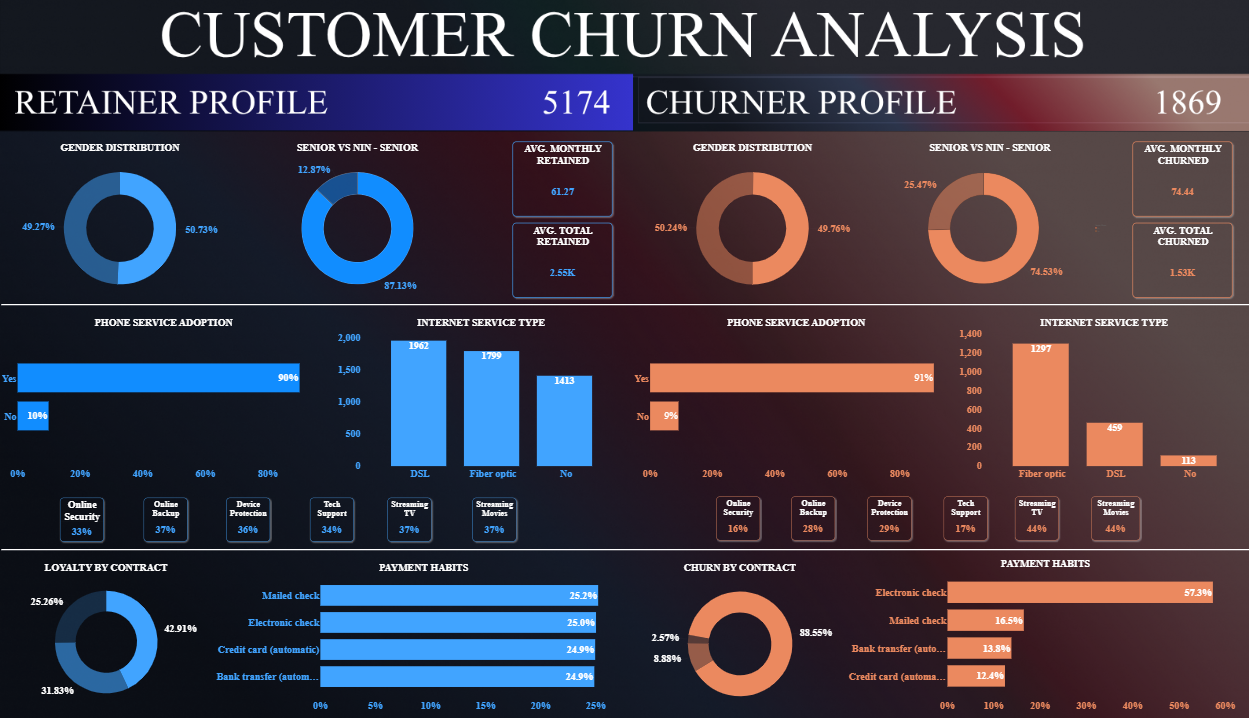

What the dashboard file says about the page in this screenshot:
{"tool":"powerbi","page":{"name":"RETAINER VS CHURNER ANALYSIS","canvas":[9999,5800],"ordinal":0},"visuals":[{"type":"card","title":"AVG. MONTHLY RETAINED","fields":{"Values":["Sheet1.Avg Monthly Retained"]},"box":[4100,1140,800,600],"z":0},{"type":"card","title":"AVG. TOTAL RETAINED","fields":{"Values":["Sheet1.Avg Total Retained"]},"box":[4100,1790,800,600],"z":1000},{"type":"card","title":"AVG. MONTHLY CHURNED","fields":{"Values":["Sheet1.Avg Monthly Churned"]},"box":[9060,1140,800,600],"z":2000},{"type":"card","title":"AVG. TOTAL CHURNED","fields":{"Values":["Sheet1.Avg Total Churned"]},"box":[9060,1790,800,600],"z":3000},{"type":"donutChart","title":"GENDER DISTRIBUTION ","fields":{"Y":["Count(Sheet1.CustomerID)"],"Category":["Sheet1.Gender"],"Series":["Sheet1.Churn Label"]},"box":[5070,1140,1900,1300],"z":4000},{"type":"donutChart","title":"CHURN BY CONTRACT","fields":{"Category":["Sheet1.Contract"],"Y":["Count(Sheet1.CustomerID)"],"Series":["Sheet1.Churn Label"]},"box":[5070,4500,1700,1230],"z":5000},{"type":"barChart","title":"PHONE SERVICE ADOPTION","fields":{"Category":["Sheet1.Phone Service"],"Y":["Divide(Count(Sheet1.CustomerID), ScopedEval(Count(Sheet1.CustomerID), []))"],"Series":["Sheet1.Churn Label"]},"box":[10,2540,2600,1300],"z":6000},{"type":"barChart","title":"PHONE SERVICE ADOPTION","fields":{"Category":["Sheet1.Phone Service"],"Y":["CountNonNull(Sheet1.CustomerID)"],"Series":["Sheet1.Churn Label"]},"box":[5070,2540,2600,1300],"z":7000},{"type":"columnChart","title":"INTERNET SERVICE TYPE","fields":{"Category":["Sheet1.Internet Service"],"Y":["Count(Sheet1.CustomerID)"]},"box":[2700,2540,2300,1300],"z":8000},{"type":"columnChart","title":"INTERNET SERVICE TYPE","fields":{"Category":["Sheet1.Internet Service"],"Y":["Count(Sheet1.CustomerID)"]},"box":[7670,2540,2330,1300],"z":9000},{"type":"barChart","title":"PAYMENT HABITS","fields":{"Category":["Sheet1.Payment Method"],"Y":["CountNonNull(Sheet1.CustomerID)"],"Series":["Sheet1.Churn Label"]},"box":[1710,4500,3360,1200],"z":10000},{"type":"barChart","title":"PAYMENT HABITS","fields":{"Category":["Sheet1.Payment Method"],"Y":["CountNonNull(Sheet1.CustomerID)"],"Series":["Sheet1.Churn Label"]},"box":[6770,4470,3190,1230],"z":11000},{"type":"card","title":"Online Backup","fields":{"Values":["Sheet1.Retained % Online Backup"]},"box":[1154,3992,350,350],"z":12000},{"type":"card","title":"Device Protection","fields":{"Values":["Sheet1.Retained % Device Protection"]},"box":[1814,3988,350,350],"z":13000},{"type":"card","title":"Tech Support","fields":{"Values":["Sheet1.Retained % Tech Support"]},"box":[2484,3988,350,350],"z":14000},{"type":"card","title":"Streaming TV","fields":{"Values":["Sheet1.Retained % Streaming TV"]},"box":[3104,3988,350,350],"z":15000},{"type":"card","title":"Streaming Movies","fields":{"Values":["Sheet1.Retained % Streaming Movies"]},"box":[3784,3988,350,350],"z":16000},{"type":"card","title":"Online Security","fields":{"Values":["Sheet1.Retained % Online Security"]},"box":[484,3988,350,350],"z":17000},{"type":"card","title":"Online Backup","fields":{"Values":["Sheet1.Churned % Online Backup"]},"box":[6326,3980,350,350],"z":18000},{"type":"card","title":"Device Protection","fields":{"Values":["Sheet1.Churned % Device Protection"]},"box":[6936,3980,350,350],"z":19000},{"type":"card","title":"Tech Support","fields":{"Values":["Sheet1.Churned % Tech Support"]},"box":[7546,3980,350,350],"z":20000},{"type":"card","title":"Streaming TV","fields":{"Values":["Sheet1.Churned % Streaming TV"]},"box":[8116,3980,350,350],"z":21000},{"type":"card","title":"Streaming Movies","fields":{"Values":["Sheet1.Churned % Streaming Movies"]},"box":[8726,3980,390,350],"z":22000},{"type":"card","title":"Online Security","fields":{"Values":["Sheet1.Churned % Online Security"]},"box":[5726,3980,350,350],"z":23000},{"type":"donutChart","title":"SENIOR VS NIN - SENIOR","fields":{"Series":["Sheet1.Senior Citizen"],"Y":["Count(Sheet1.CustomerID)"],"Category":["Sheet1.Senior Citizen","Sheet1.Churn Label"]},"box":[1910,1140,1900,1300],"z":24000},{"type":"donutChart","title":"SENIOR VS NIN - SENIOR","fields":{"Series":["Sheet1.Senior Citizen"],"Y":["Count(Sheet1.CustomerID)"],"Category":["Sheet1.Senior Citizen","Sheet1.Churn Label"]},"box":[6970,1140,1900,1300],"z":25000},{"type":"shape","box":[10,4340,9990,130],"z":26000},{"type":"donutChart","title":"GENDER DISTRIBUTION ","fields":{"Category":["Sheet1.Gender"],"Y":["Count(Sheet1.CustomerID)"],"Series":["Sheet1.Churn Label"]},"box":[10,1140,1900,1300],"z":27000},{"type":"donutChart","title":"LOYALTY BY CONTRACT","fields":{"Category":["Sheet1.Contract"],"Y":["Count(Sheet1.CustomerID)"],"Series":["Sheet1.Churn Label"]},"box":[0,4500,1700,1200],"z":28000},{"type":"shape","box":[10,2380,9990,130],"z":29000}]}

Visuals, with their boxes in screenshot pixels (x1, y1, x2, y2), scaled from the page's 9999x5800 canvas onto the 1249x718 screenshot:
"AVG. MONTHLY RETAINED" card: [512,141,612,215]
"AVG. TOTAL RETAINED" card: [512,222,612,296]
"AVG. MONTHLY CHURNED" card: [1132,141,1232,215]
"AVG. TOTAL CHURNED" card: [1132,222,1232,296]
"GENDER DISTRIBUTION " donutChart: [633,141,871,302]
"CHURN BY CONTRACT" donutChart: [633,557,846,709]
"PHONE SERVICE ADOPTION" barChart: [1,314,326,475]
"PHONE SERVICE ADOPTION" barChart: [633,314,958,475]
"INTERNET SERVICE TYPE" columnChart: [337,314,625,475]
"INTERNET SERVICE TYPE" columnChart: [958,314,1248,475]
"PAYMENT HABITS" barChart: [214,557,633,706]
"PAYMENT HABITS" barChart: [846,553,1244,706]
"Online Backup" card: [144,494,188,538]
"Device Protection" card: [227,494,270,537]
"Tech Support" card: [310,494,354,537]
"Streaming TV" card: [388,494,431,537]
"Streaming Movies" card: [473,494,516,537]
"Online Security" card: [60,494,104,537]
"Online Backup" card: [790,493,834,536]
"Device Protection" card: [866,493,910,536]
"Tech Support" card: [943,493,986,536]
"Streaming TV" card: [1014,493,1058,536]
"Streaming Movies" card: [1090,493,1139,536]
"Online Security" card: [715,493,759,536]
"SENIOR VS NIN - SENIOR" donutChart: [239,141,476,302]
"SENIOR VS NIN - SENIOR" donutChart: [871,141,1108,302]
shape: [1,537,1248,553]
"GENDER DISTRIBUTION " donutChart: [1,141,239,302]
"LOYALTY BY CONTRACT" donutChart: [0,557,212,706]
shape: [1,295,1248,311]
